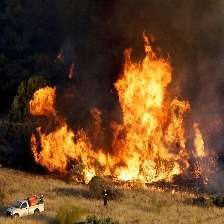fire: (26, 40, 213, 187)
smoke: (179, 1, 219, 105)
